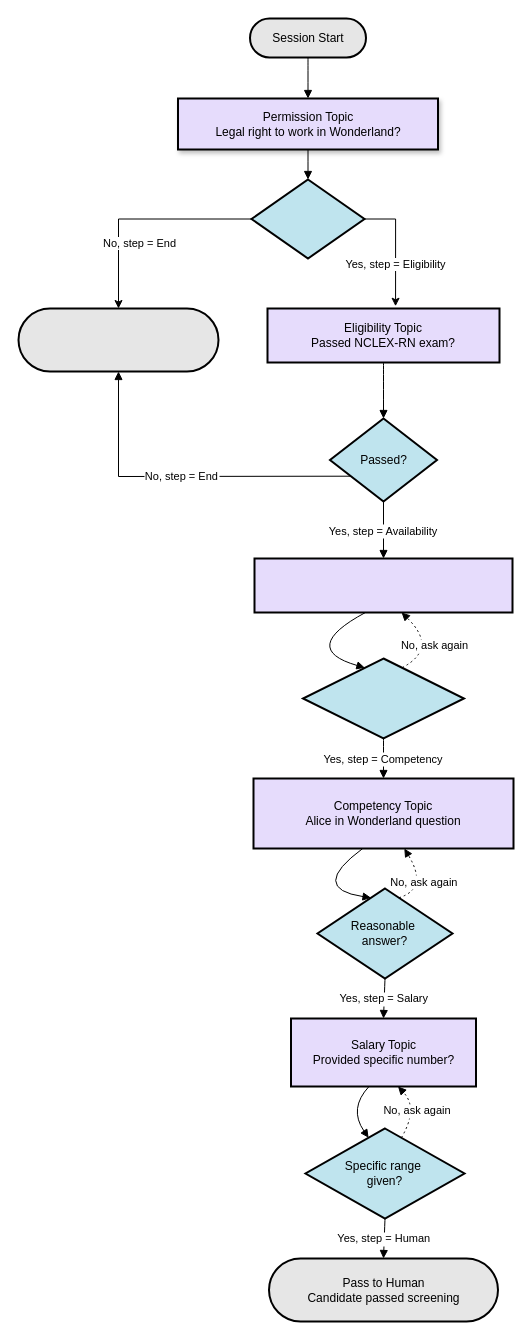
The diagram is 531 pixels wide and 1339 high, and some of its shapes have lost their labels. Each missing label, with the centre of its shape:
Availability Topic Earliest possible start date?: point (383, 585)
Date provided?: point (383, 698)
Eligible?: point (307, 218)
End Interview Candidate not qualified: point (118, 339)
